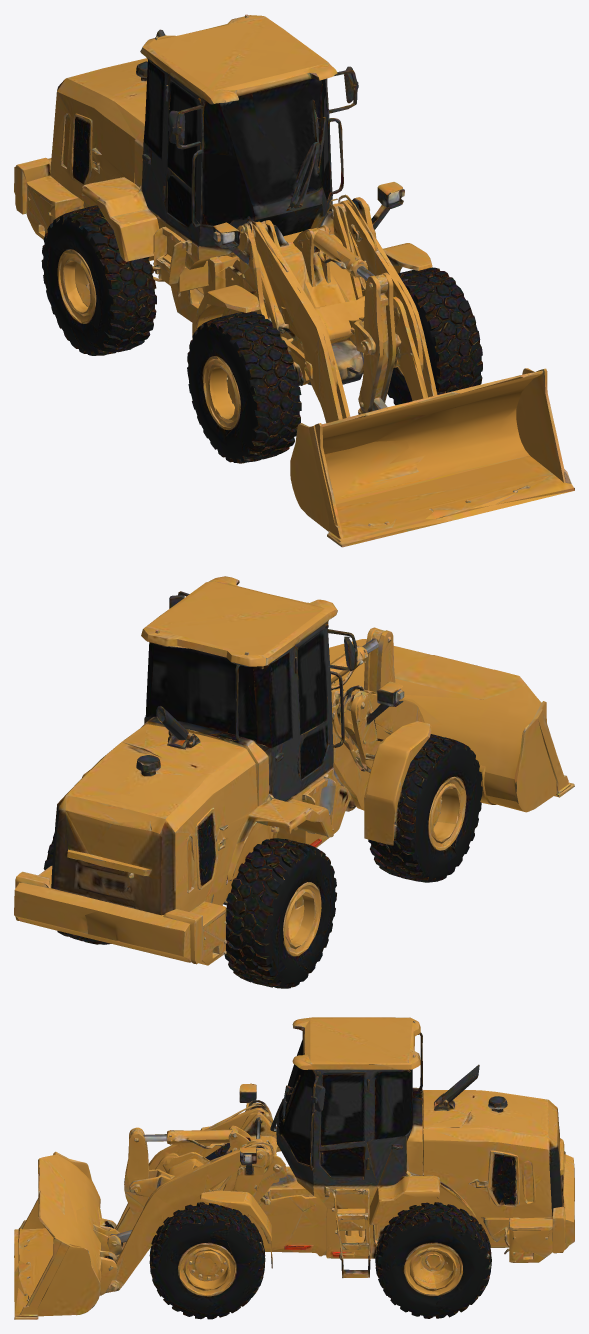
The model's file is wheel-loader.glb.
3 views of the same model, one above another, from view 1: azimuth 30°, elevation 25°; view 2: azimuth 150°, elevation 25°; view 3: azimuth 270°, elevation 25° (orthographic). The views are drawn at different scales.
Visible parts, largest first — view 1: chassis_rear, loader_arms, chassis_front; view 2: chassis_rear, loader_arms, chassis_front; view 3: chassis_rear, loader_arms, chassis_front.
Boxes of the visible parts, x1,y1,x2,y2 form: chassis_rear: (14,14,358,355); loader_arms: (236,194,574,547); chassis_front: (187,146,482,463); chassis_rear: (14,576,357,988); loader_arms: (329,627,574,812); chassis_front: (316,681,482,882); chassis_rear: (273,1017,574,1318); loader_arms: (14,1100,305,1319); chassis_front: (109,1083,302,1319).
Size of the model in its own units: 2.85 by 3.61 by 7.62.
1 material, 1 textured.
